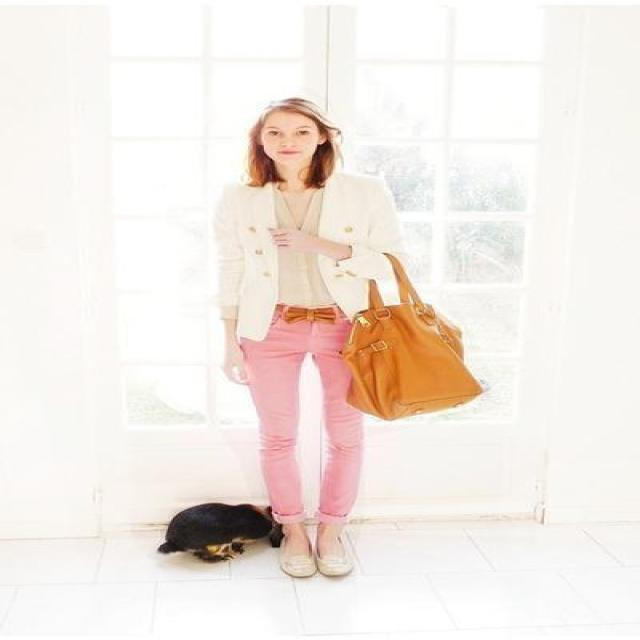bag: (336, 253, 478, 419)
jacket: (205, 171, 400, 341)
pants: (226, 306, 366, 527)
shirt: (270, 192, 336, 309)
shoe: (272, 541, 357, 581)
